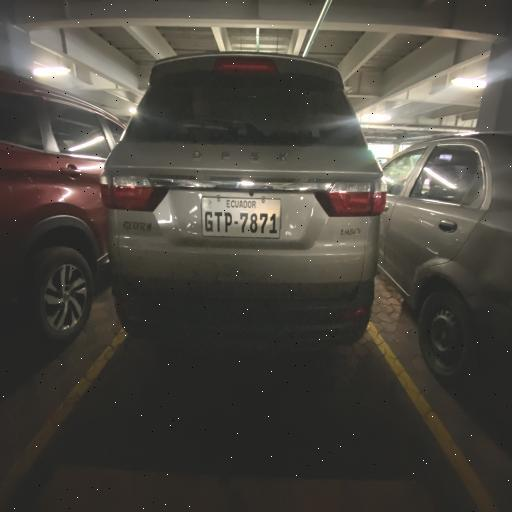license_plate: (203, 210, 214, 233), (222, 212, 232, 234), (238, 212, 248, 233), (269, 213, 278, 235), (214, 211, 223, 232), (259, 213, 268, 234), (249, 214, 258, 234)
